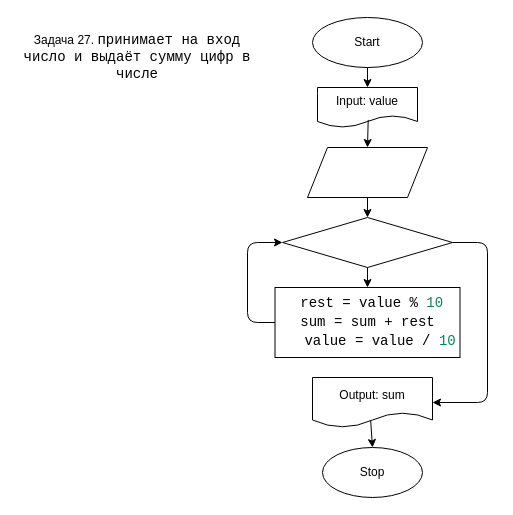
The diagram is 513 pixels wide and 515 high, and some of its shapes have lost their labels. Each missing label, with the centre of its shape:
sum = 0 rest = 0: [367,172]
value != 0: [367,242]
